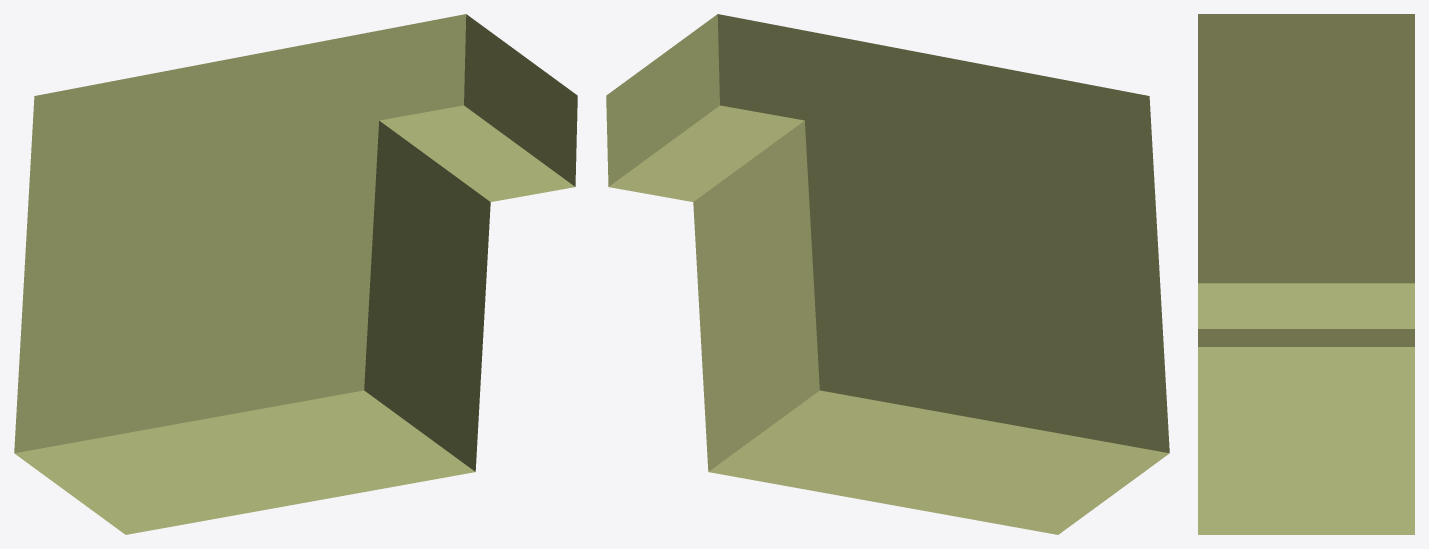
3 views of the same model, side by side, from view 1: azimuth 30°, elevation 25°; view 2: azimuth 150°, elevation 25°; view 3: azimuth 270°, elevation 25° (orthographic). The views are drawn at different scales.
Visible parts, largest first — view 1: 0_0_3_1_3_2_3_3_3_0; view 2: 0_0_3_1_3_2_3_3_3_0; view 3: 0_0_3_1_3_2_3_3_3_0.
Boxes of the visible parts, box(x1,y1,x2,y2) form: 0_0_3_1_3_2_3_3_3_0: box(14, 14, 577, 534); 0_0_3_1_3_2_3_3_3_0: box(606, 14, 1169, 534); 0_0_3_1_3_2_3_3_3_0: box(1198, 14, 1414, 534).
Size of the model in its own units: 21.06 by 16.68 by 9.
